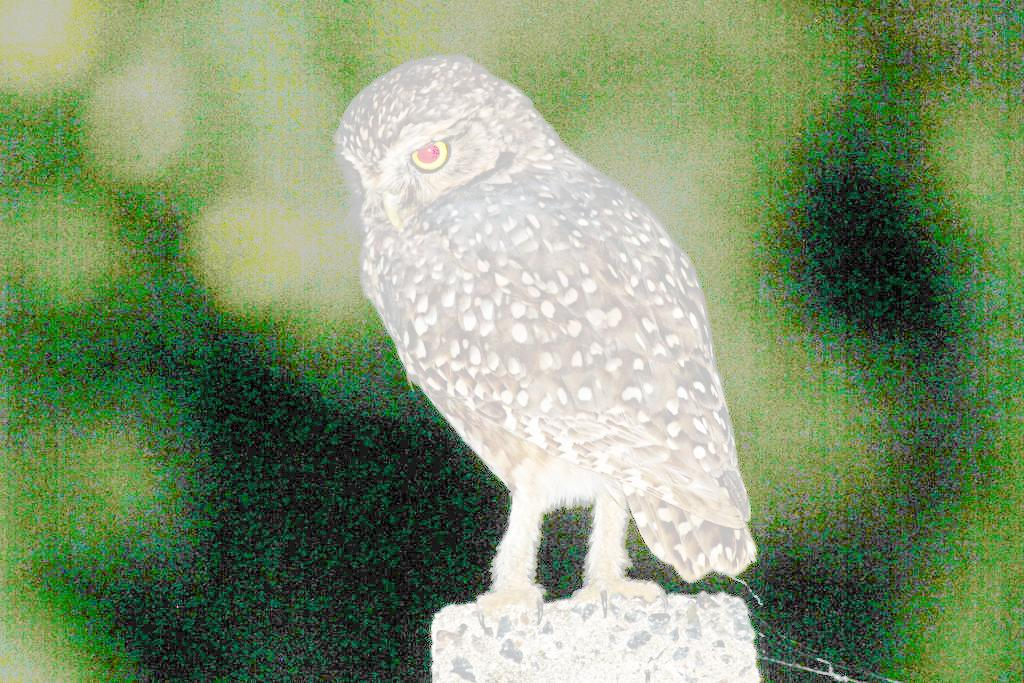Owl: (336, 53, 762, 611)
